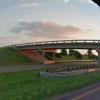Bridge: (12, 35, 99, 58)
